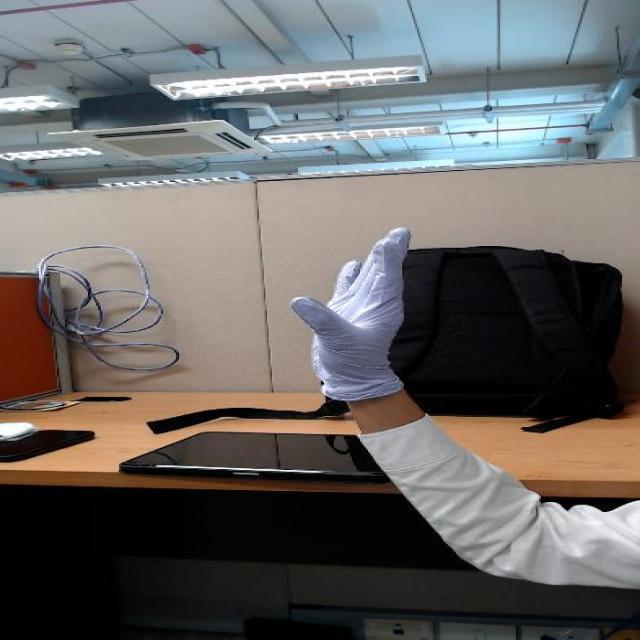gloved_hand: (278, 217, 446, 383)
